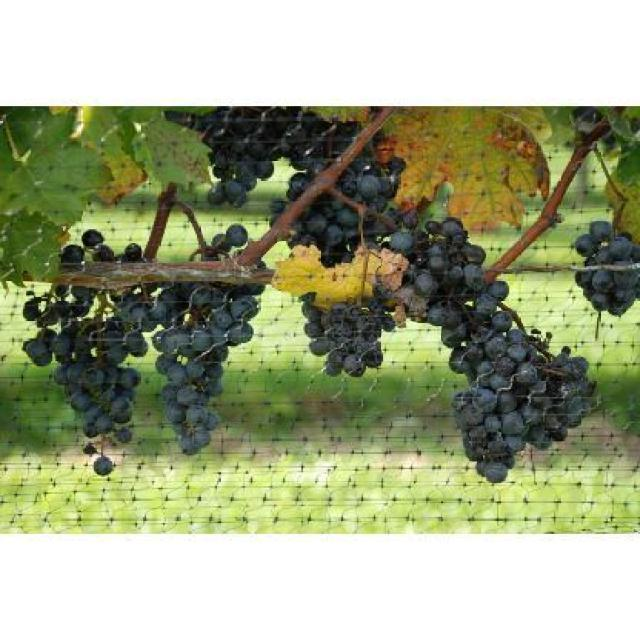Grape: (180, 104, 598, 483), (22, 226, 267, 451), (420, 221, 589, 474), (574, 219, 638, 313), (93, 454, 113, 474)
